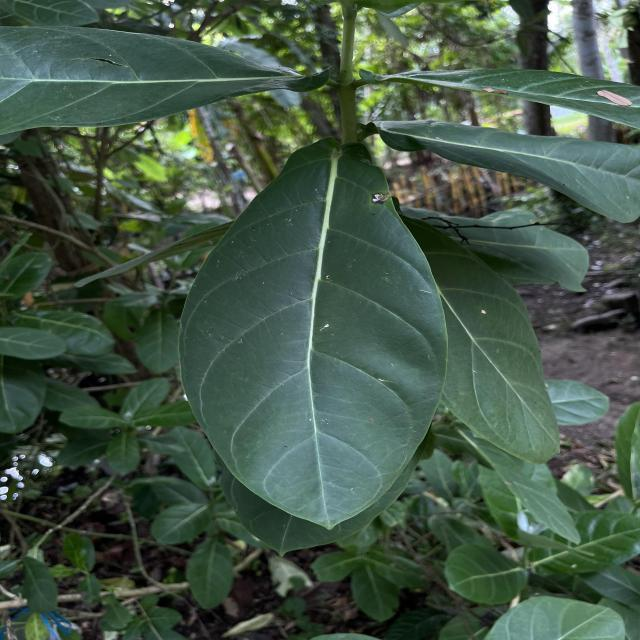Calotropis gigantea: (172, 134, 450, 530), (395, 213, 565, 468)
